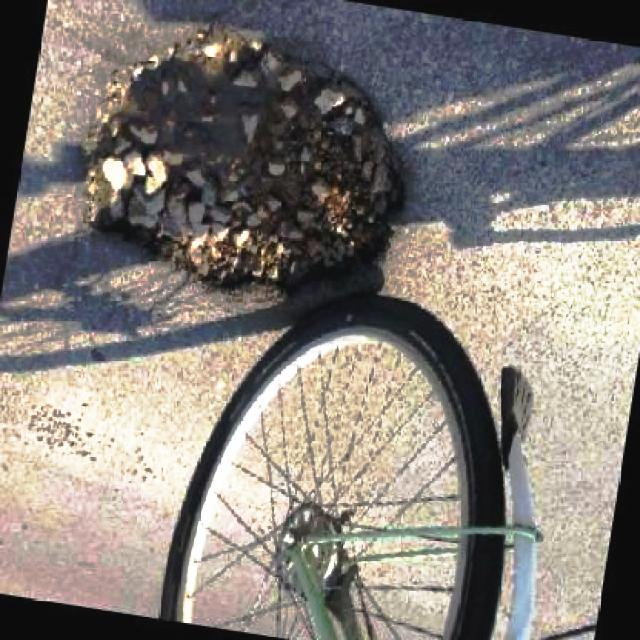pothole: (84, 21, 404, 302)
